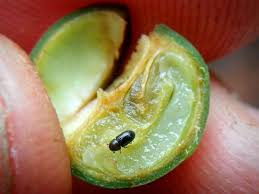broca de cafe: (60, 6, 209, 186)
